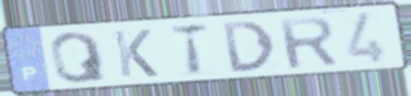4: (344, 9, 391, 67)
D: (219, 18, 278, 75)
K: (110, 27, 161, 79)
Q: (47, 30, 111, 85)
R: (275, 14, 341, 70)
T: (168, 21, 212, 78)
